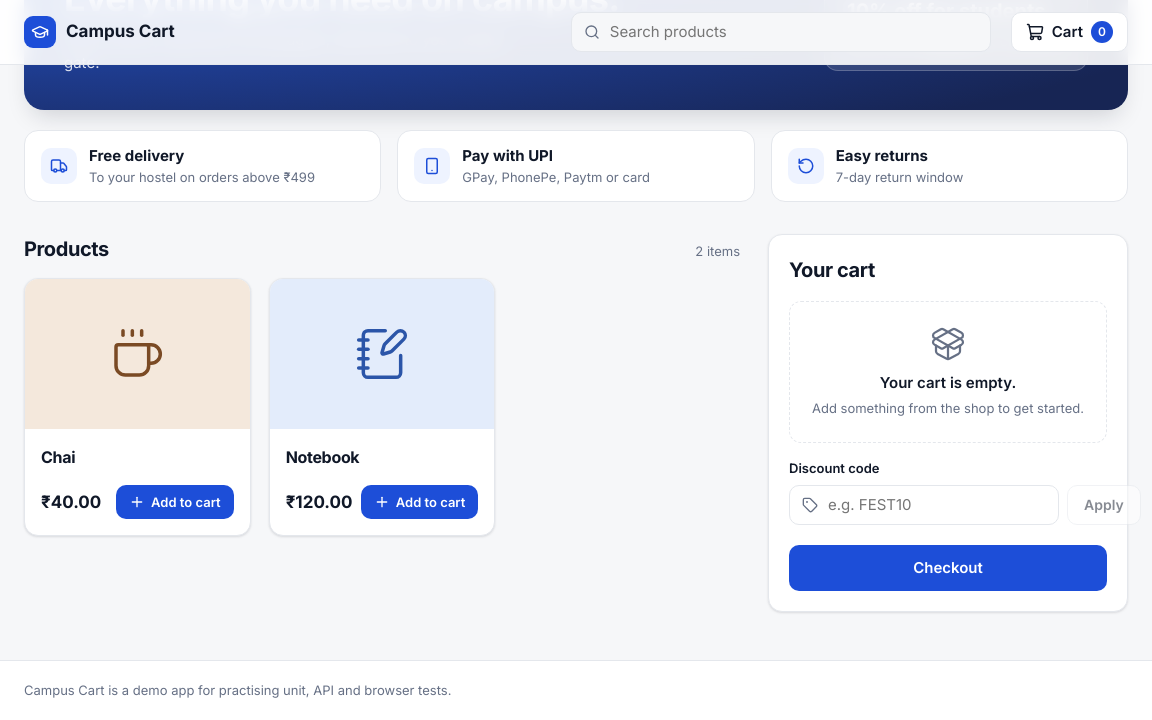
Test case: App › shows the order number after checkout
(page scrolled)
Click the button "Checkout" at (948, 568), box 789,545 -> 1107,591
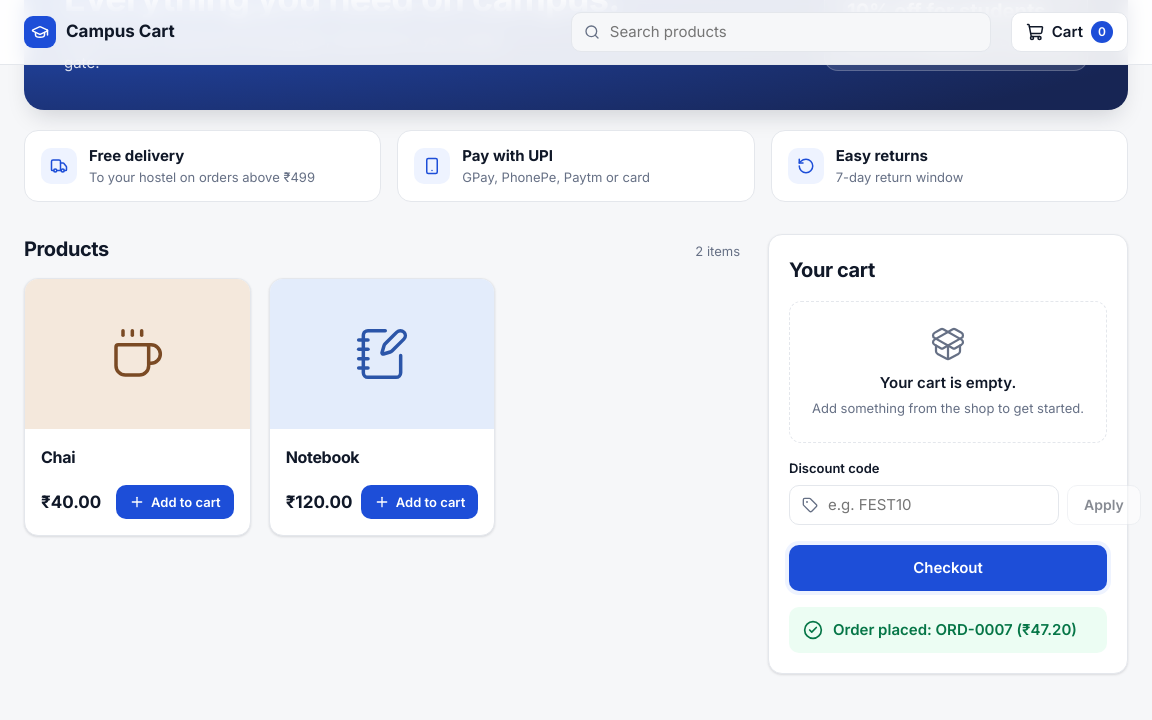
Expected: the message reads "Order placed: ORD-0007 (₹47.20)", 789,607 -> 1107,653
